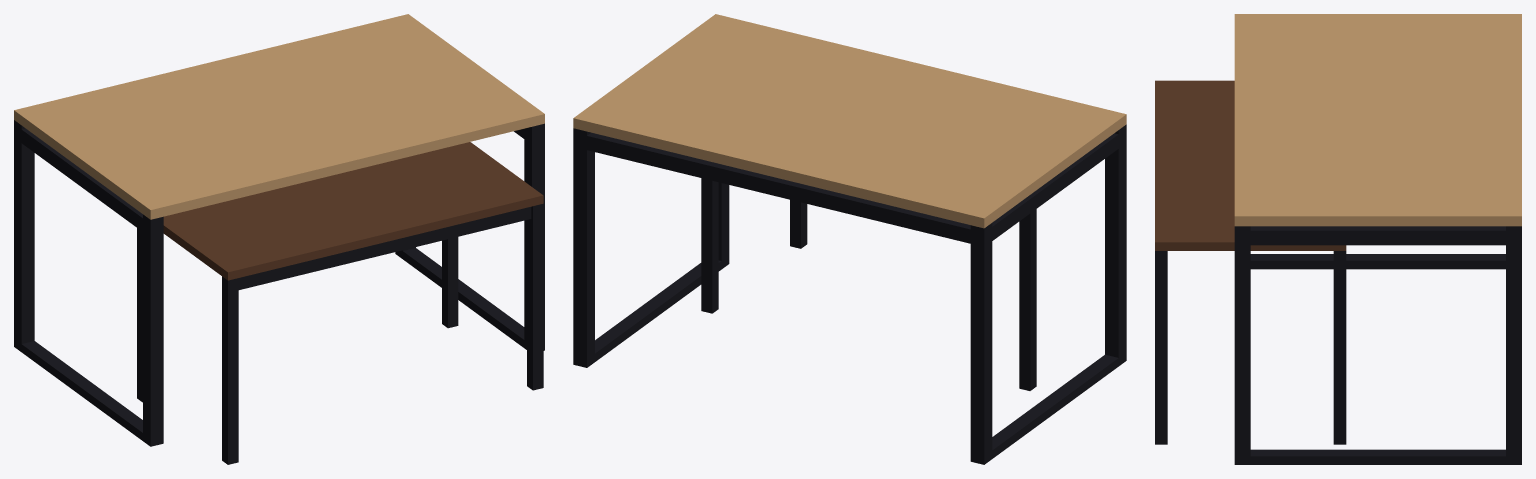
The model's file is 056_nesting_display_tables_set_of_2.glb.
3 renders of one model, left to right at view 1: azimuth 30°, elevation 25°; view 2: azimuth 150°, elevation 25°; view 3: azimuth 270°, elevation 25°, orthographic. The views are drawn at different scales.
Parts seen in each view (by area): view 1: 000_large_top, 010_small_top, 002_large_end_panel, 001_large_end_panel, 019_small_apron_front, 013_small_leg, 017_small_leg, 004_large_foot_rail, 003_large_end_stretcher, 008_large_foot_rail, 006_large_end_panel, 015_small_leg (+1 smaller); view 2: 000_large_top, 009_large_back_rail, 001_large_end_panel, 005_large_end_panel, 002_large_end_panel, 011_small_leg, 004_large_foot_rail, 008_large_foot_rail, 003_large_end_stretcher, 015_small_leg, 006_large_end_panel, 017_small_leg; view 3: 000_large_top, 010_small_top, 007_large_end_stretcher, 008_large_foot_rail, 006_large_end_panel, 004_large_foot_rail, 005_large_end_panel, 015_small_leg, 017_small_leg.
Part boxes in pixels (box(x1,y1,x2,y2)): 000_large_top: box(14, 14, 544, 219); 010_small_top: box(163, 142, 543, 280); 002_large_end_panel: box(143, 214, 163, 446); 001_large_end_panel: box(14, 120, 34, 351); 019_small_apron_front: box(238, 207, 531, 289); 013_small_leg: box(222, 276, 238, 464); 017_small_leg: box(527, 203, 543, 390); 004_large_foot_rail: box(21, 341, 142, 440); 003_large_end_stretcher: box(21, 128, 142, 231); 008_large_foot_rail: box(402, 248, 524, 347); 006_large_end_panel: box(524, 123, 544, 350); 015_small_leg: box(442, 237, 458, 328); 000_large_top: box(573, 14, 1126, 228); 009_large_back_rail: box(587, 132, 970, 243); 001_large_end_panel: box(970, 223, 992, 464); 005_large_end_panel: box(573, 128, 594, 367); 002_large_end_panel: box(1105, 124, 1126, 366); 011_small_leg: box(1019, 209, 1036, 390); 004_large_foot_rail: box(992, 354, 1118, 458); 008_large_foot_rail: box(595, 260, 721, 361); 003_large_end_stretcher: box(992, 133, 1118, 240); 015_small_leg: box(701, 178, 718, 313); 006_large_end_panel: box(718, 182, 729, 268); 017_small_leg: box(790, 200, 807, 248); 000_large_top: box(1234, 14, 1521, 226); 010_small_top: box(1155, 80, 1346, 250); 007_large_end_stretcher: box(1250, 226, 1505, 245); 008_large_foot_rail: box(1250, 449, 1505, 464); 006_large_end_panel: box(1234, 226, 1250, 464); 004_large_foot_rail: box(1250, 254, 1505, 269); 005_large_end_panel: box(1506, 226, 1521, 464); 015_small_leg: box(1333, 251, 1346, 444); 017_small_leg: box(1155, 251, 1167, 444).
Bounding box in the file's own units: 1.5 × 0.86 × 1.15.
